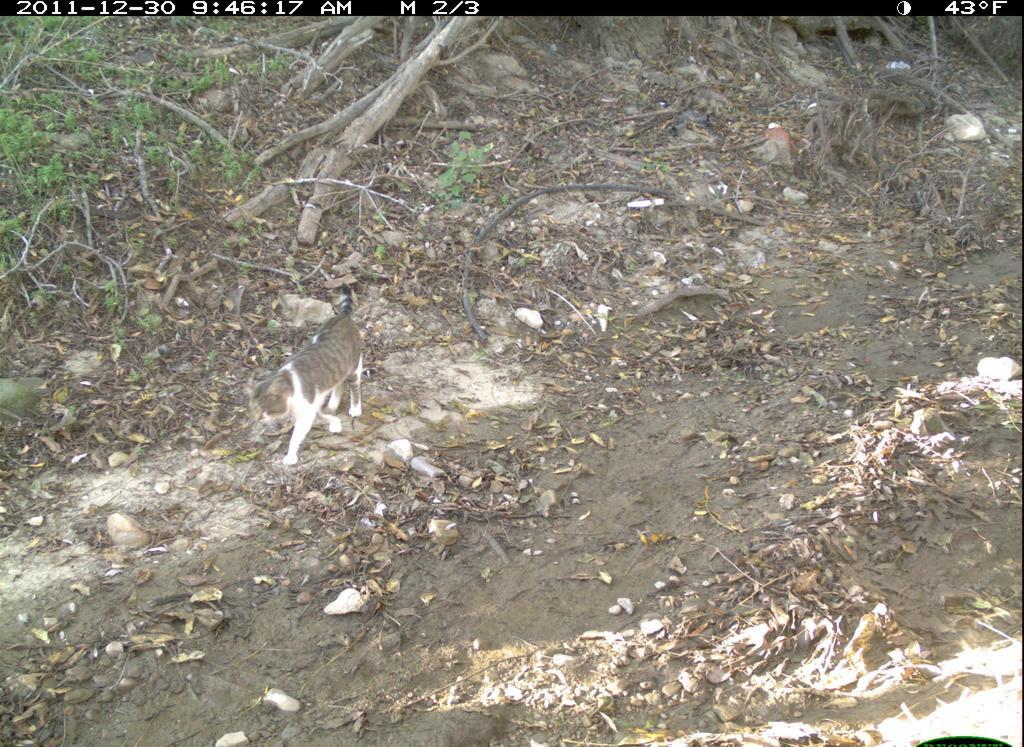cat: (239, 281, 378, 470)
